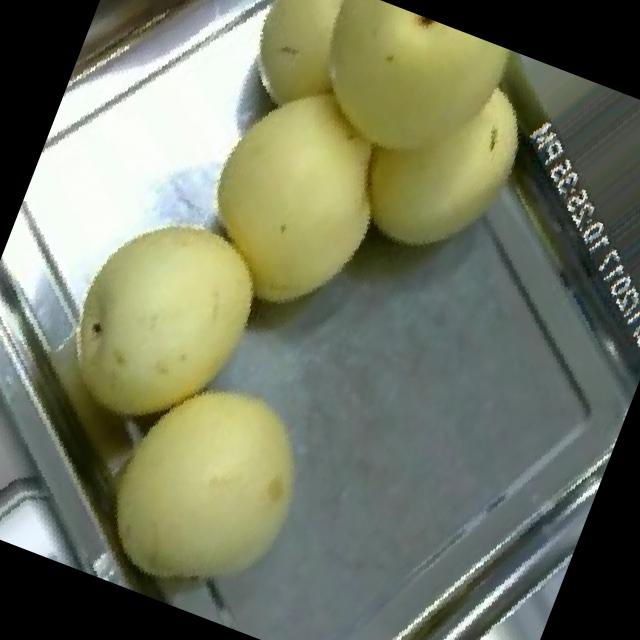Fruit: (236, 0, 586, 309), (15, 163, 308, 477), (54, 331, 351, 640), (147, 41, 438, 352)
